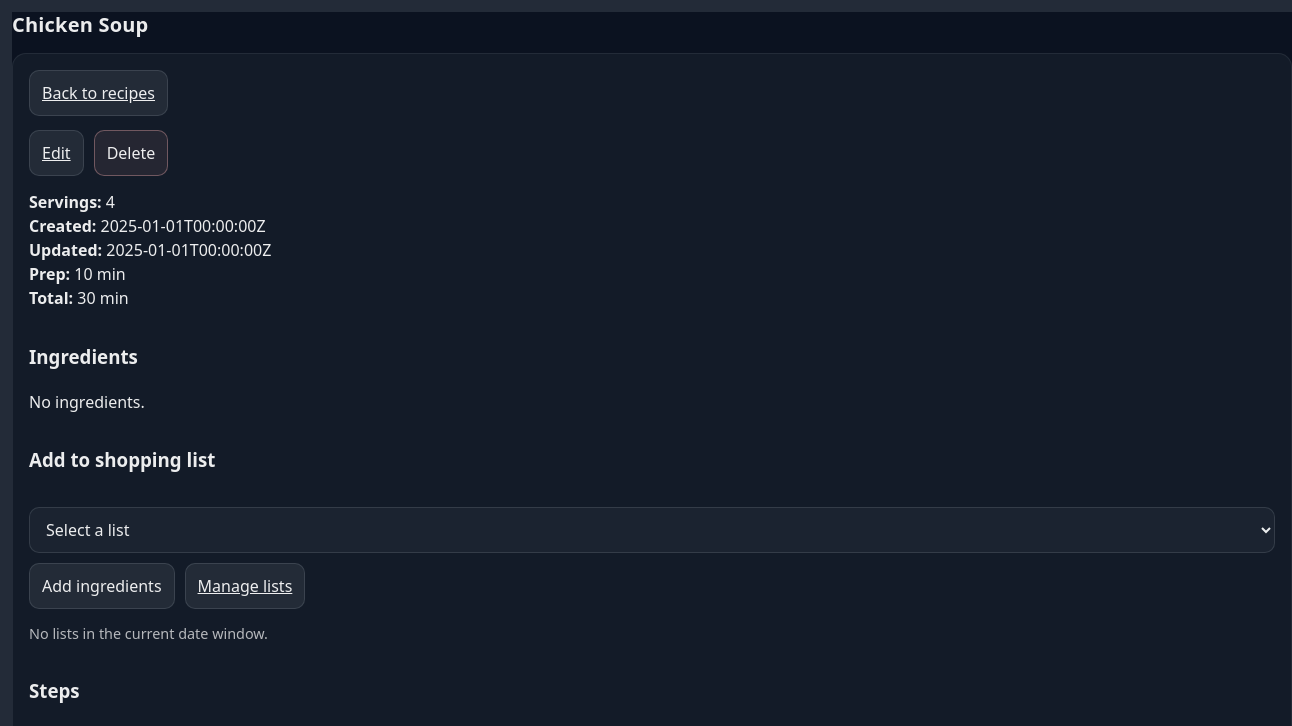
Test: RecipeDetailPage › shows error when delete fails
Expected: the heading "Chicken Soup" is shown, [12, 12, 148, 37]
Click the button "Delete" at {"x": 131, "y": 153}, box [94, 130, 168, 176]
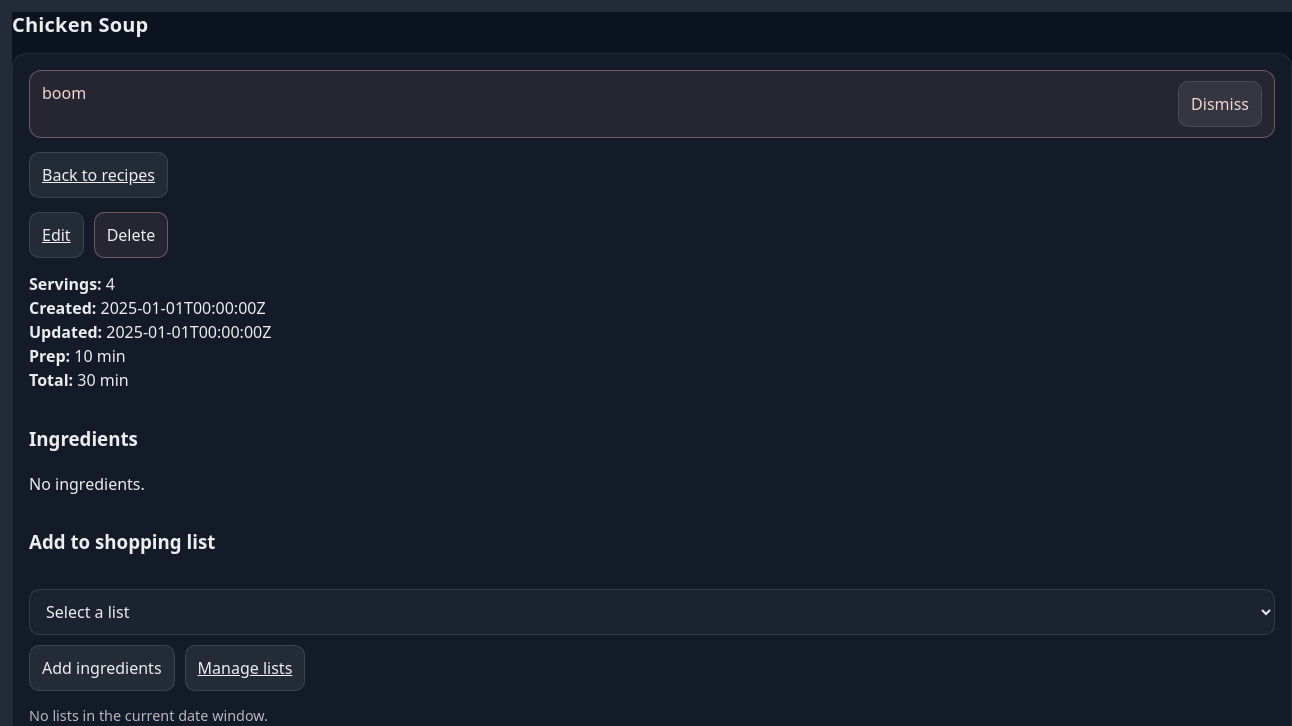
Expected: the message shows "boom", [42, 82, 86, 104]
